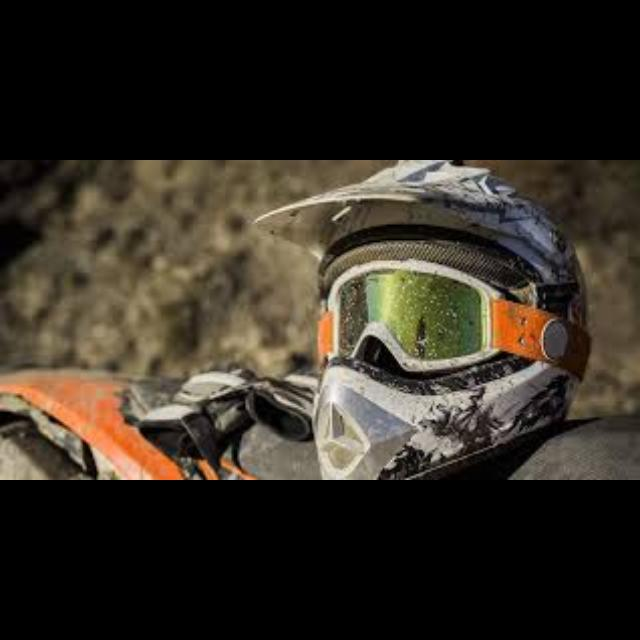motorcycle-helmets: (260, 162, 588, 474)
